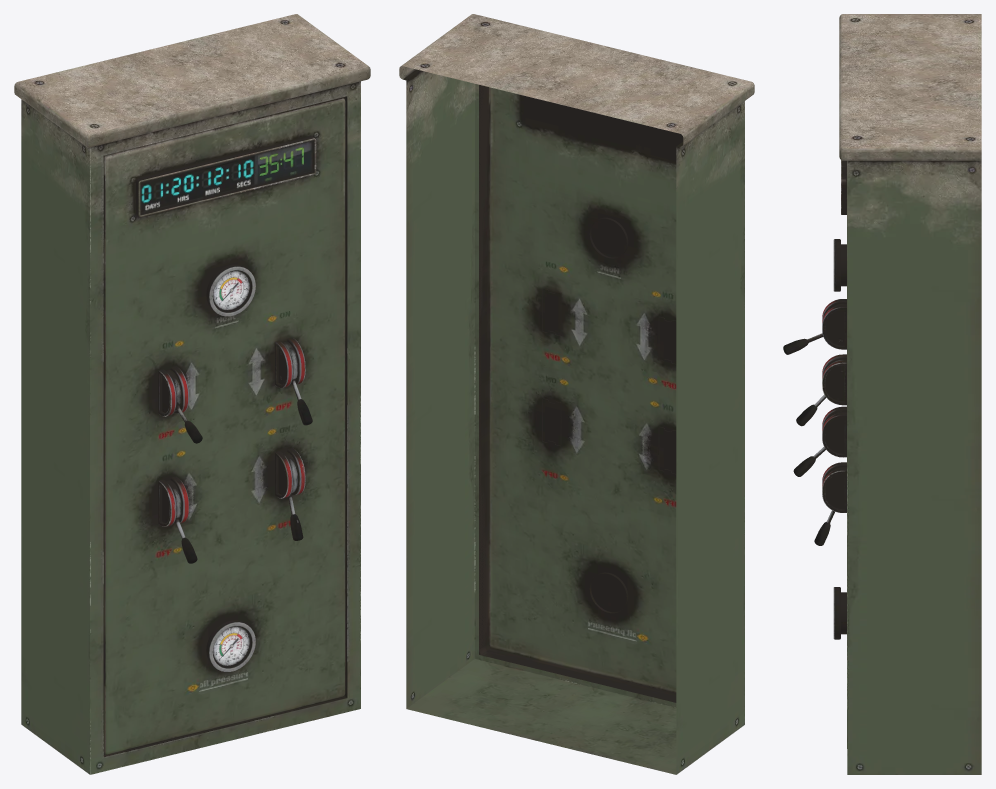
File: industrial_electrical_box02-_10mb-opt.glb
3 views of the same model, side by side, from view 1: azimuth 30°, elevation 25°; view 2: azimuth 150°, elevation 25°; view 3: azimuth 270°, elevation 25° (orthographic). The views are drawn at different scales.
Parts seen in each view (by area): view 1: Symmetry__0; view 2: Symmetry__0; view 3: Symmetry__0.
Boxes of the visible parts, box(x1,y1,x2,y2) form: Symmetry__0: box(14, 14, 370, 774); Symmetry__0: box(399, 14, 754, 774); Symmetry__0: box(783, 14, 981, 774).
Size of the model in its own units: 0.9456 by 2.04 by 0.5841.
Materials: 1 (1 with a texture image).
